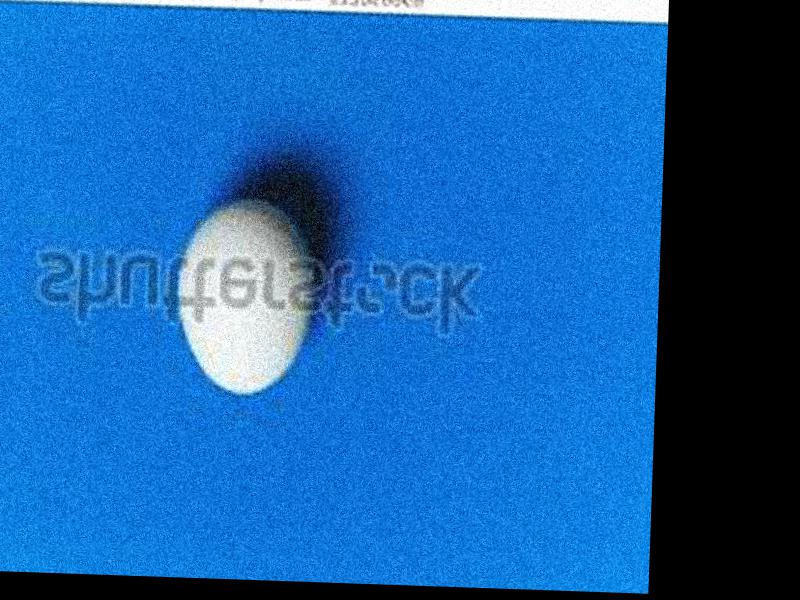Eggs: (177, 197, 315, 402)
